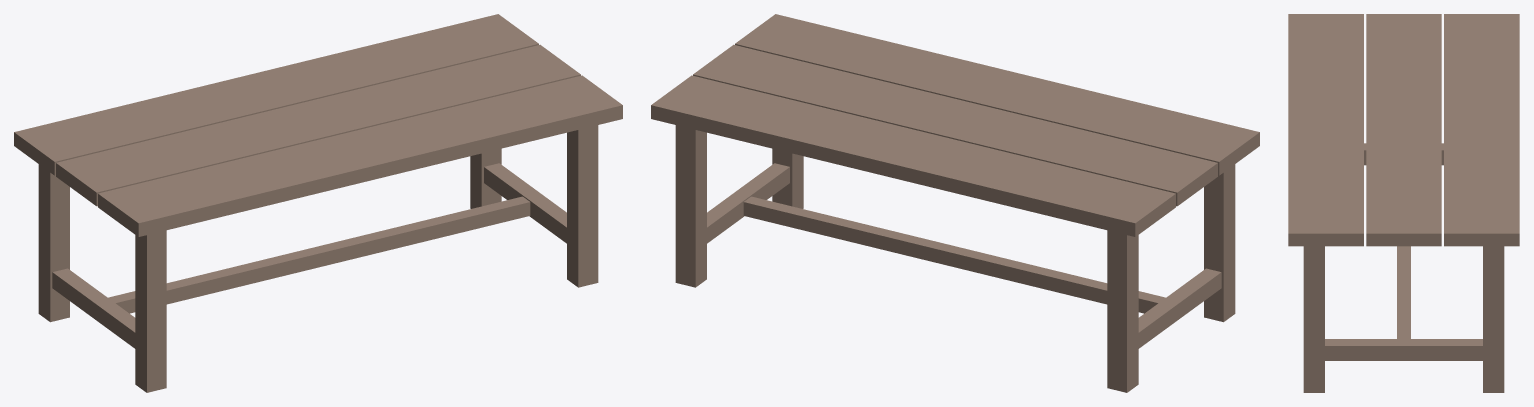
File: tisch.glb
The picture shows the model from 3 angles, left to right: view 1: azimuth 30°, elevation 25°; view 2: azimuth 150°, elevation 25°; view 3: azimuth 270°, elevation 25°; orthographic projection. The views are drawn at different scales.
Parts seen in each view (by area): view 1: tisch; view 2: tisch; view 3: tisch.
Part boxes in pixels (x1,y1,x2,y2): tisch: (14,14,622,392); tisch: (651,14,1259,392); tisch: (1288,14,1519,392).
Bounding box in the file's own units: 2.2 × 0.78 × 0.98.
